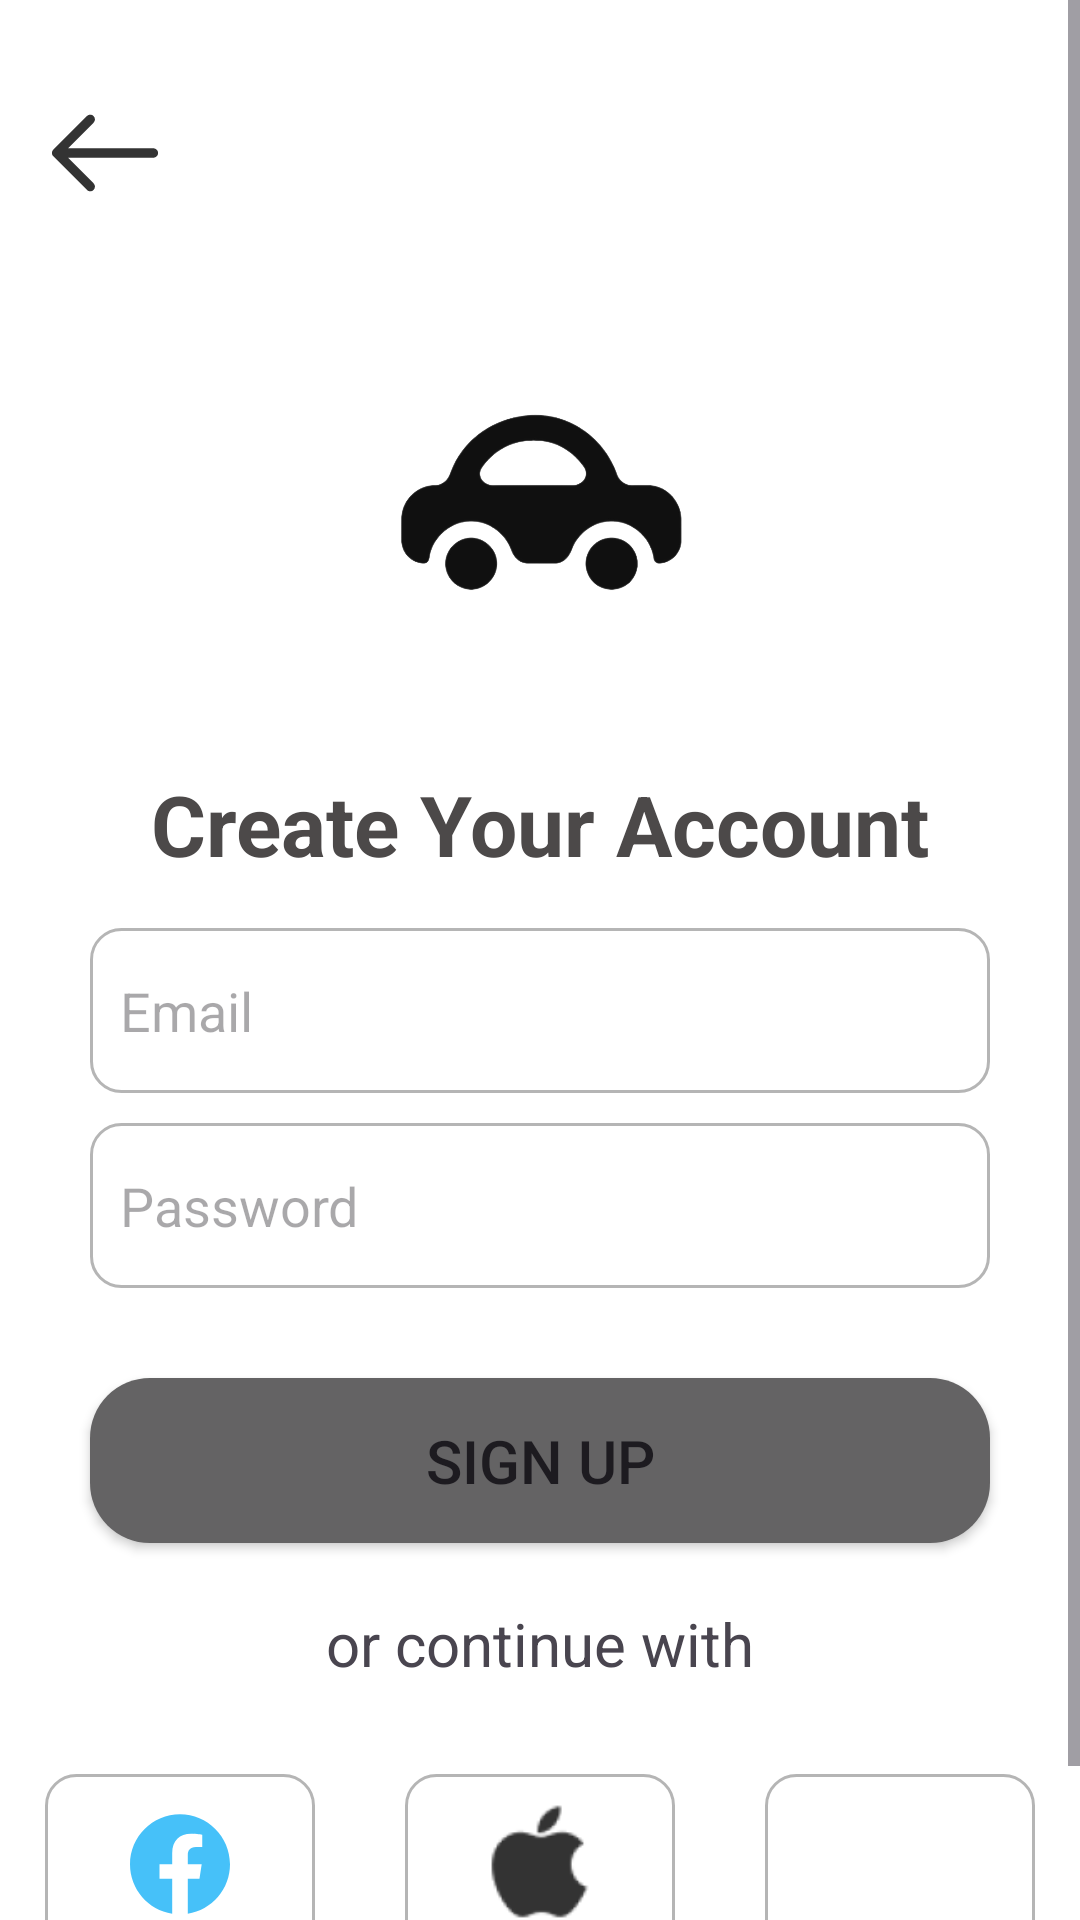

Screen size 1080 x 1920. Icon name, then its box in pixels as (x1, y1, x2, y2):
backarrow: (52, 114, 158, 192)
